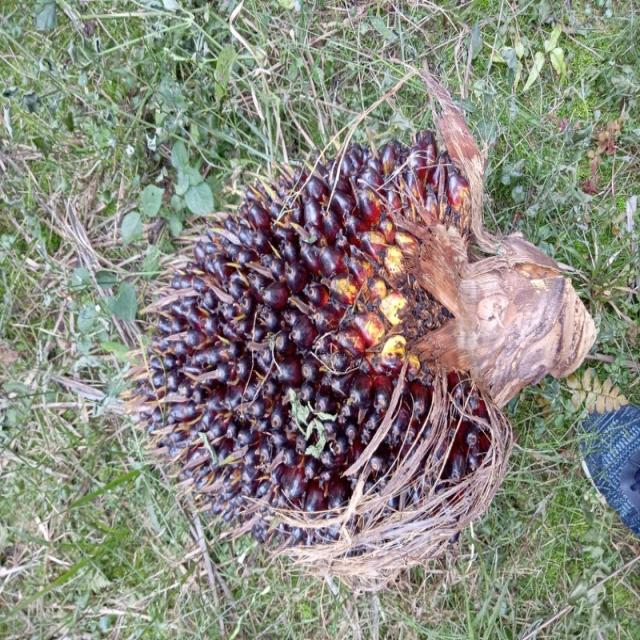fraksi 00: (140, 134, 490, 577)
